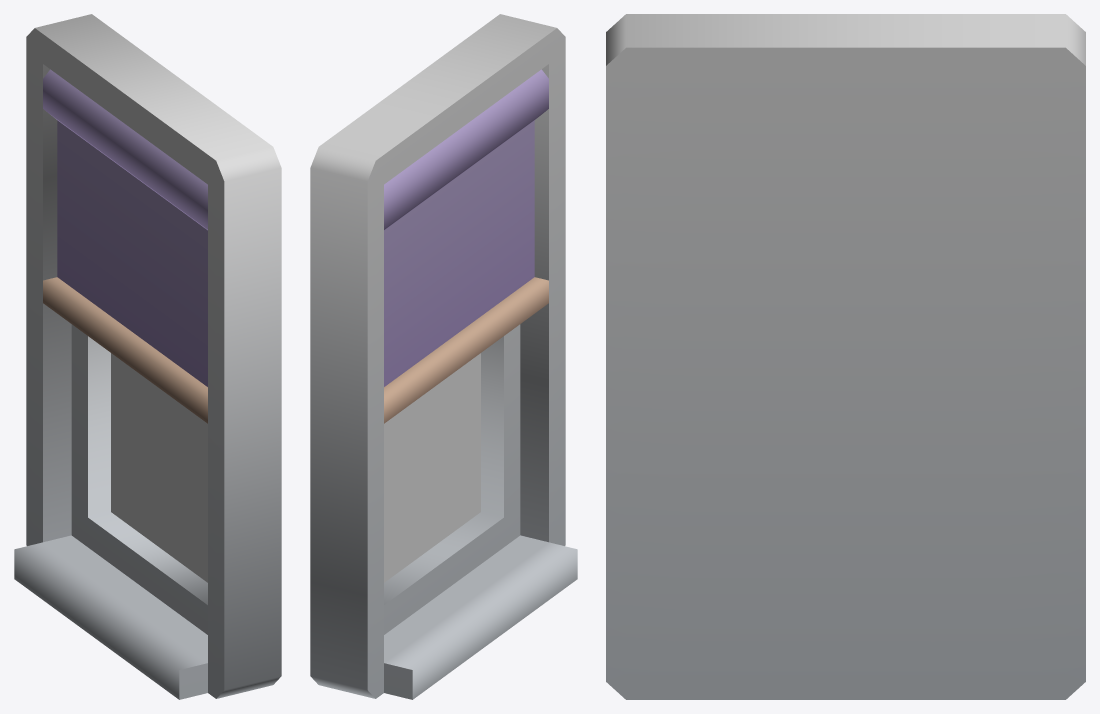
Rendered from window-shutters (%wall) (%thumbnail).glb.
3 renders of one model, left to right at view 1: azimuth 30°, elevation 25°; view 2: azimuth 150°, elevation 25°; view 3: azimuth 270°, elevation 25°, orthographic. The views are drawn at different scales.
Parts seen in each view (by area): view 1: window-shutters (%wall) (%thumbnail); view 2: window-shutters (%wall) (%thumbnail); view 3: window-shutters (%wall) (%thumbnail).
Boxes of the visible parts, x1,y1,x2,y2 form: window-shutters (%wall) (%thumbnail): (14, 14, 281, 699); window-shutters (%wall) (%thumbnail): (310, 14, 577, 699); window-shutters (%wall) (%thumbnail): (606, 14, 1085, 699).
Size of the model in its own units: 0.15 by 0.9 by 0.6.
